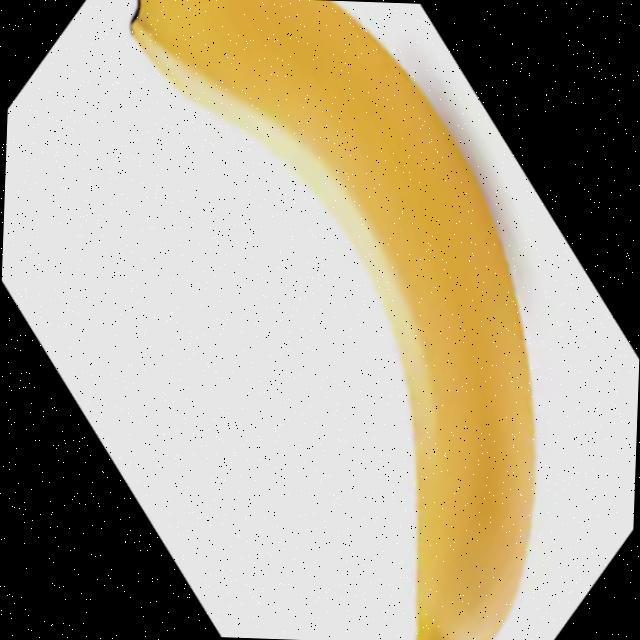Ripe: (99, 0, 557, 640)
